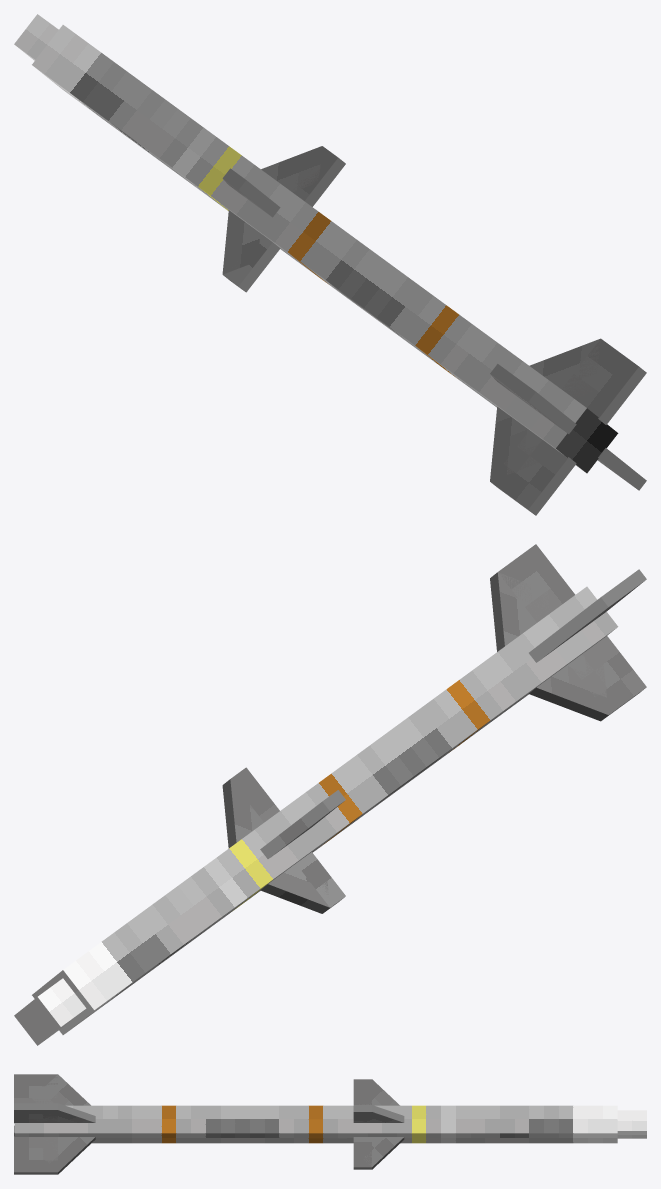
Rendered from aim120.gltf.
3 renders of one model, top to bottom at view 1: azimuth 30°, elevation 25°; view 2: azimuth 150°, elevation 25°; view 3: azimuth 270°, elevation 25°, orthographic. The views are drawn at different scales.
Visible parts, largest first — view 1: cube (×13); view 2: cube (×13); view 3: cube (×14).
Part boxes in pixels (<box>): cube (×13): <box>14,14,646,515</box>; cube (×13): <box>14,544,646,1045</box>; cube (×14): <box>14,1074,646,1174</box>.
Size of the model in its own units: 0.3352 by 0.3352 by 2.69.
Materials: 1 (1 with a texture image).
